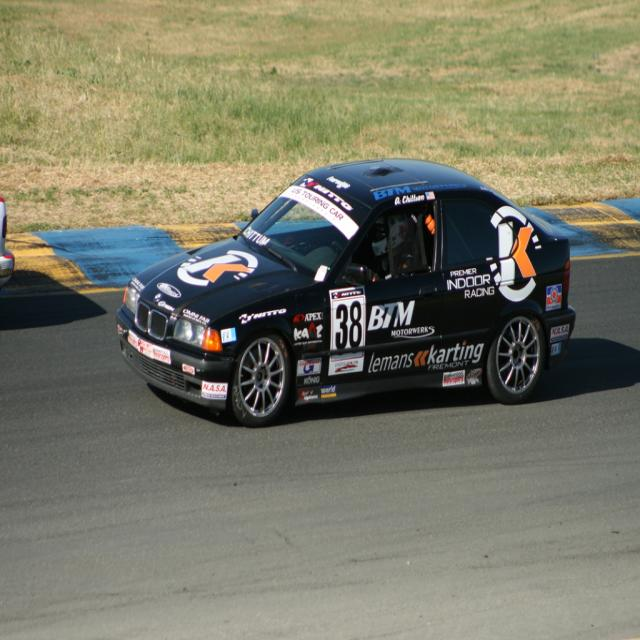car: (115, 162, 580, 420)
